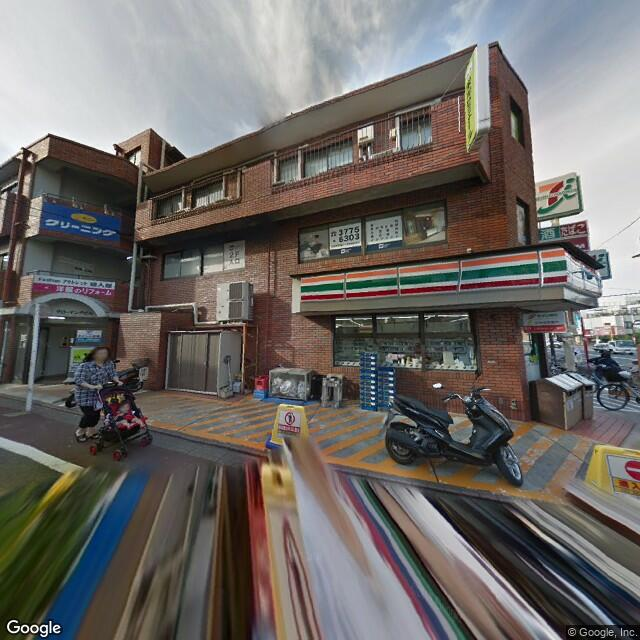7-eleven: (294, 239, 578, 307), (530, 165, 583, 224)
